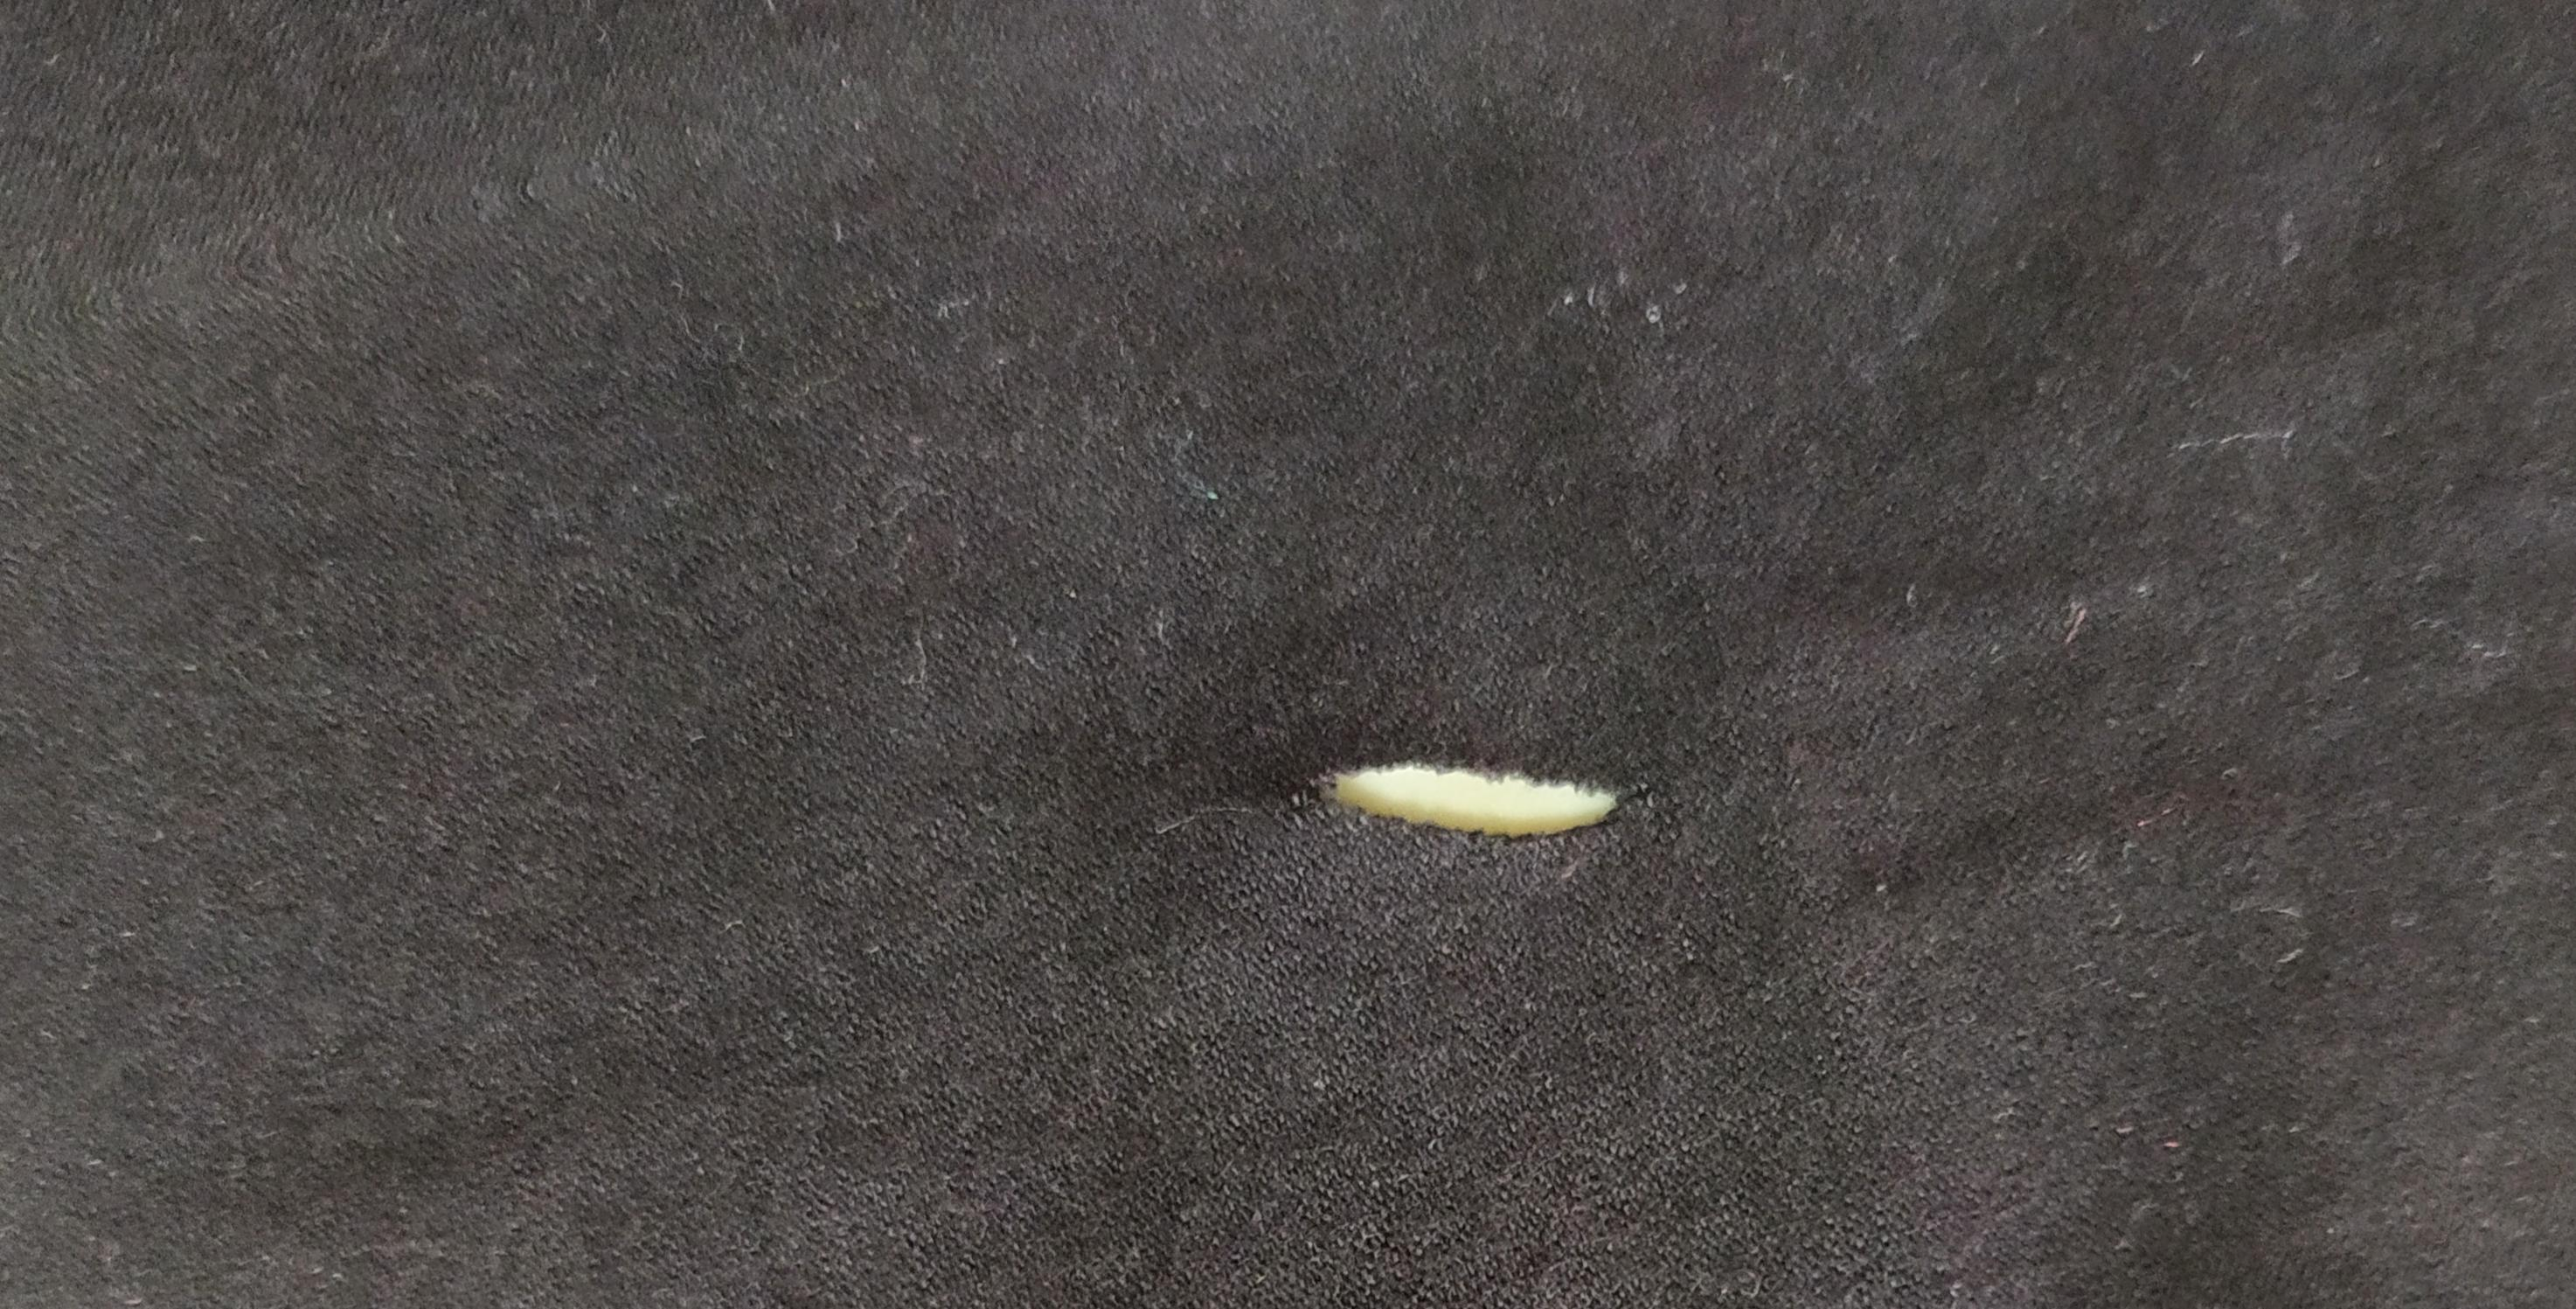hole: (1306, 736, 1653, 880)
